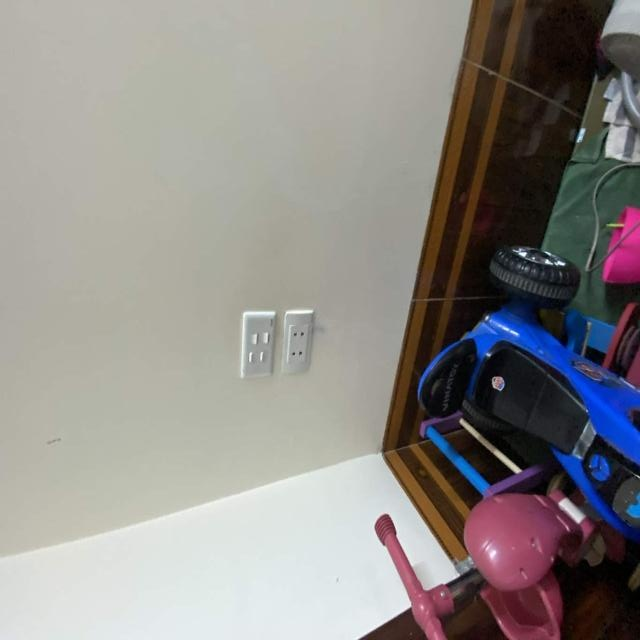outlet: (281, 310, 314, 375)
